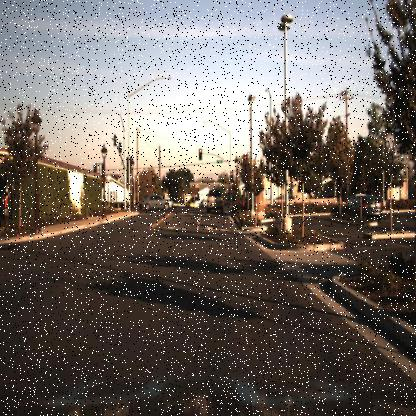car: (138, 190, 172, 212), (203, 184, 227, 212), (354, 195, 382, 219)
trafficLight-Red: (150, 173, 158, 188), (197, 146, 204, 162), (243, 149, 249, 165), (228, 169, 235, 180), (197, 146, 203, 158), (150, 170, 157, 180)
